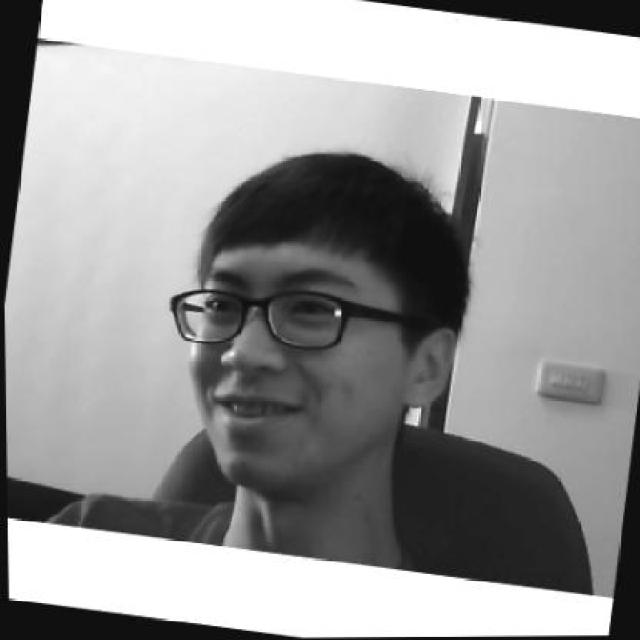attentif: (142, 131, 480, 512)
